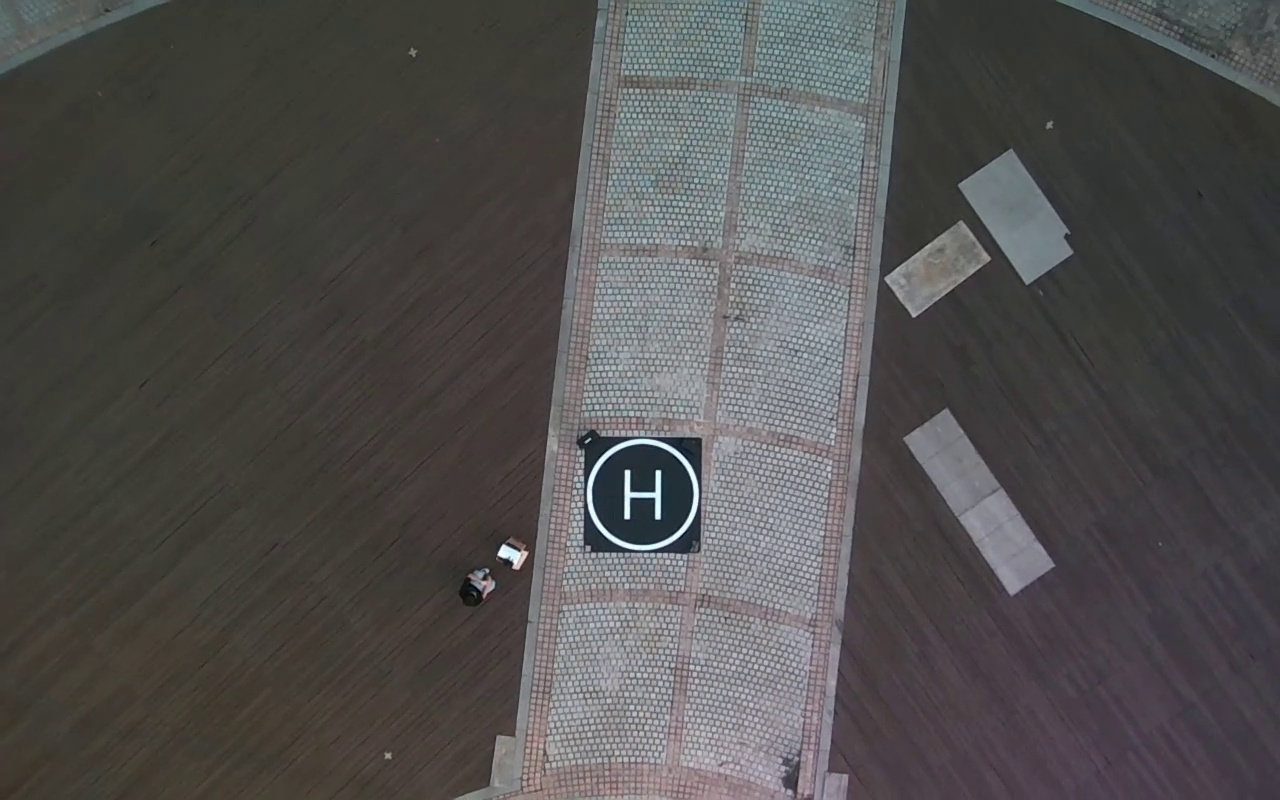H: (622, 466, 662, 521)
heliport: (585, 437, 701, 549)
